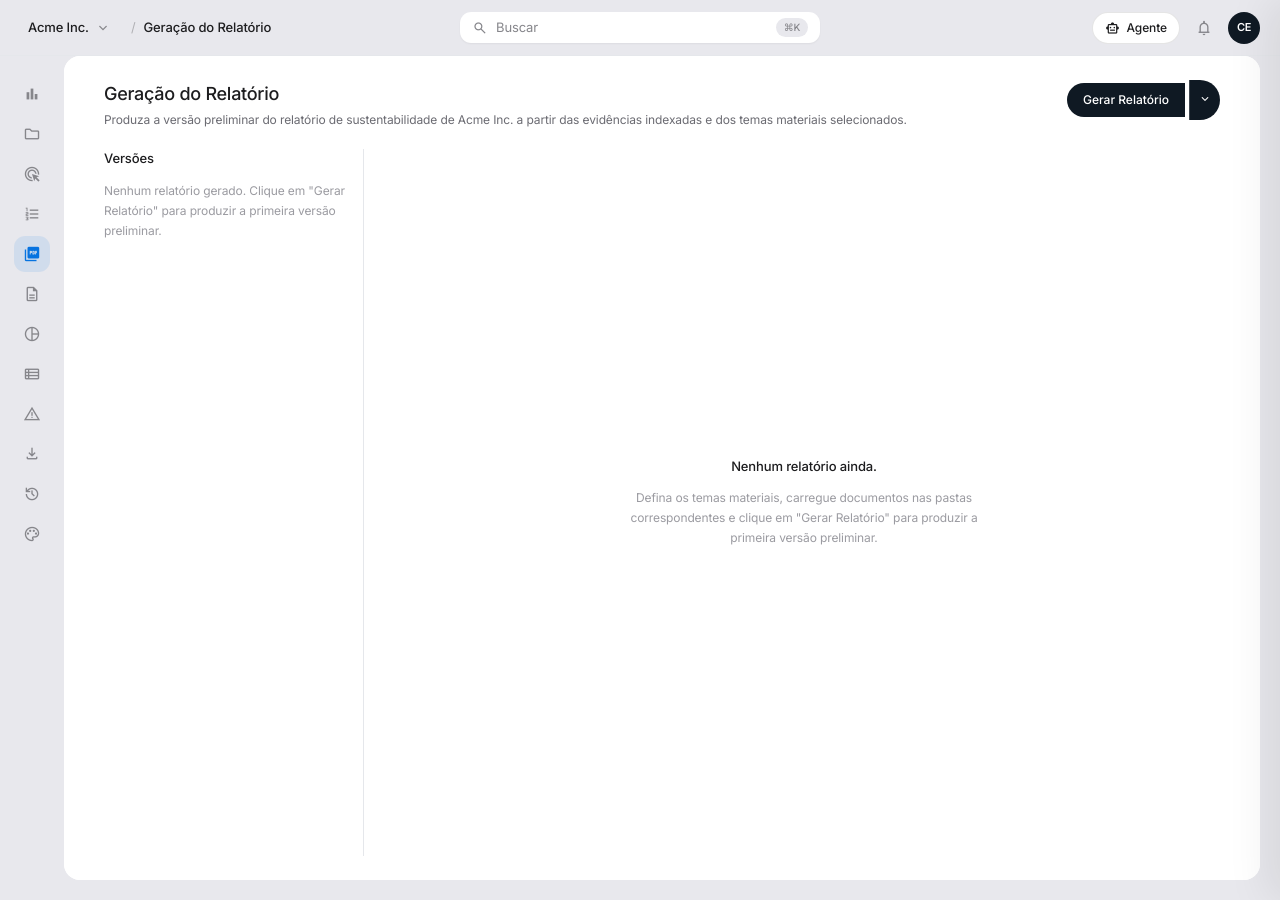
it: ProjectGenerationPage › streams a generation and updates pipeline progress
The image size is (1280, 900).
Expected: the text "Nenhum relatório ainda." is shown, x1=731 y1=458 x2=877 y2=474
Click the button "Gerar Relatório": (1126, 100) x1=1067 y1=83 x2=1185 y2=117
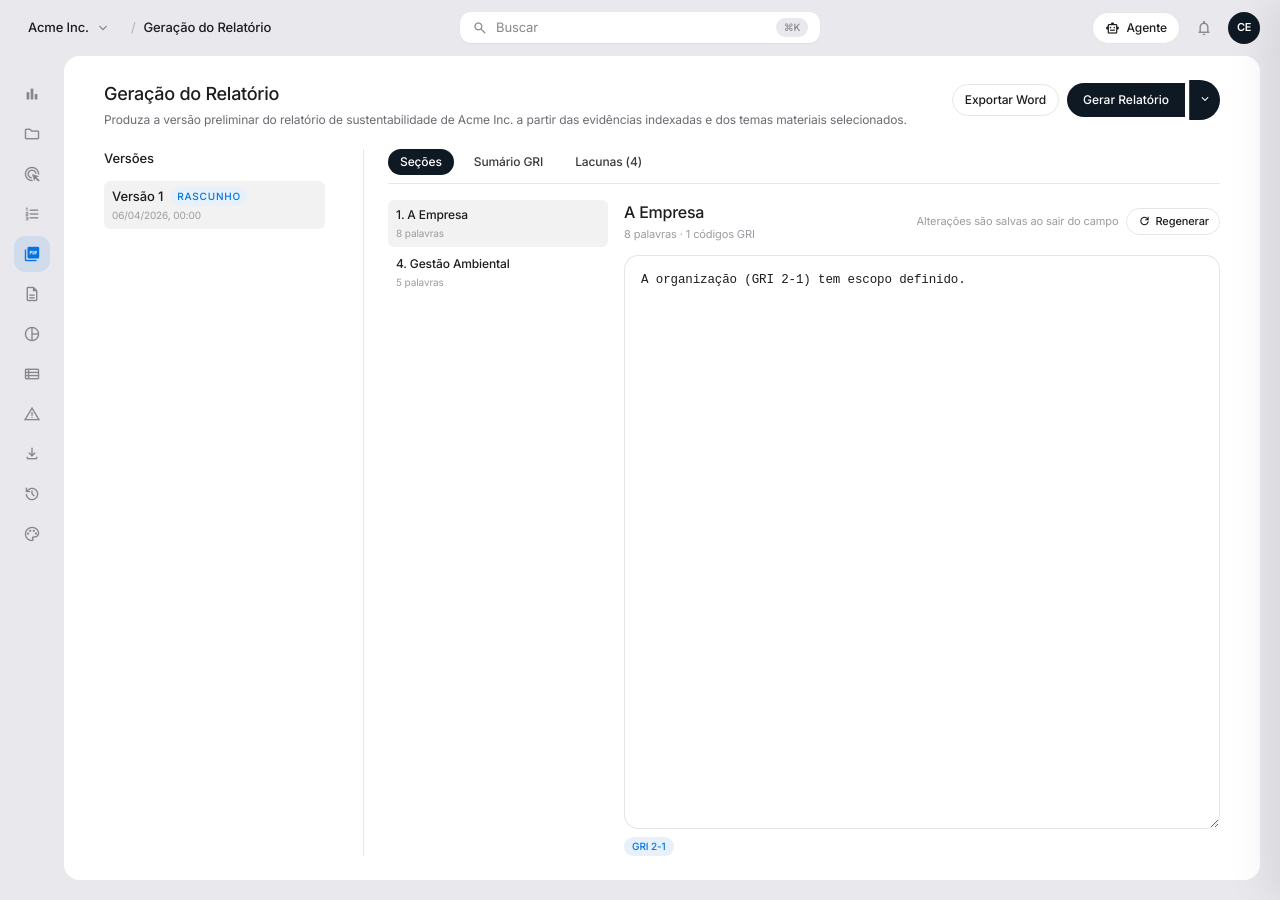
Result: the text "1. A Empresa" is shown at x1=396 y1=206 x2=468 y2=224
